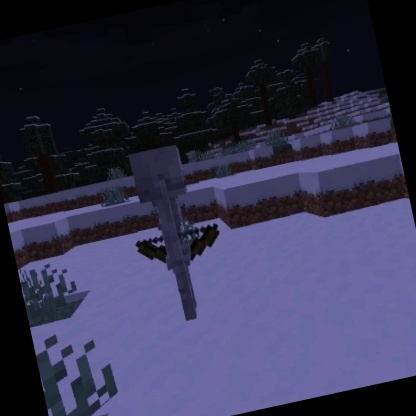skeleton: (112, 133, 239, 333)
